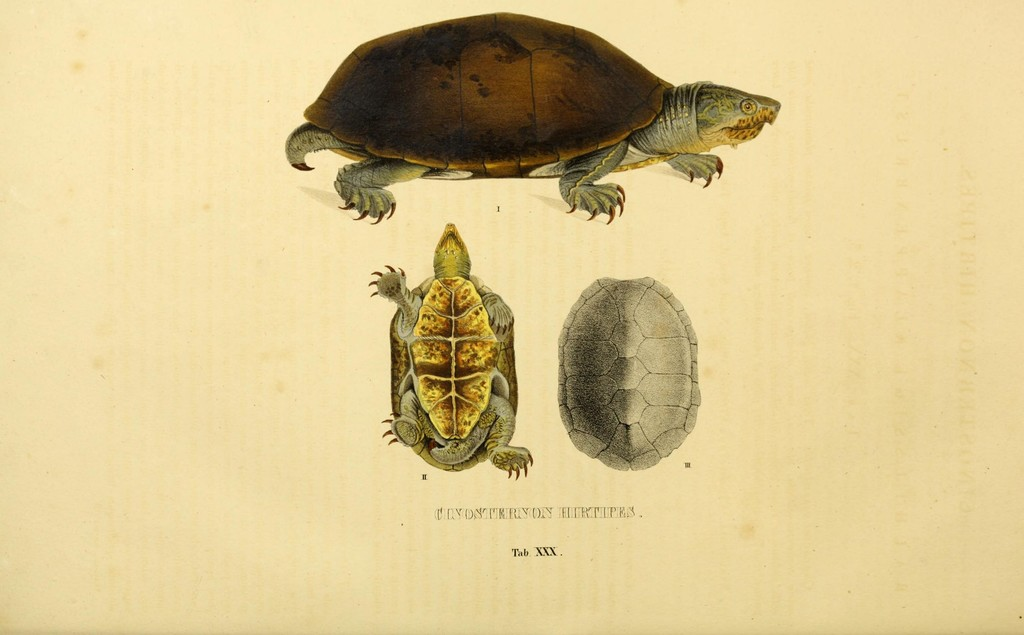Sea turtles: (284, 10, 780, 222), (369, 217, 529, 476)
